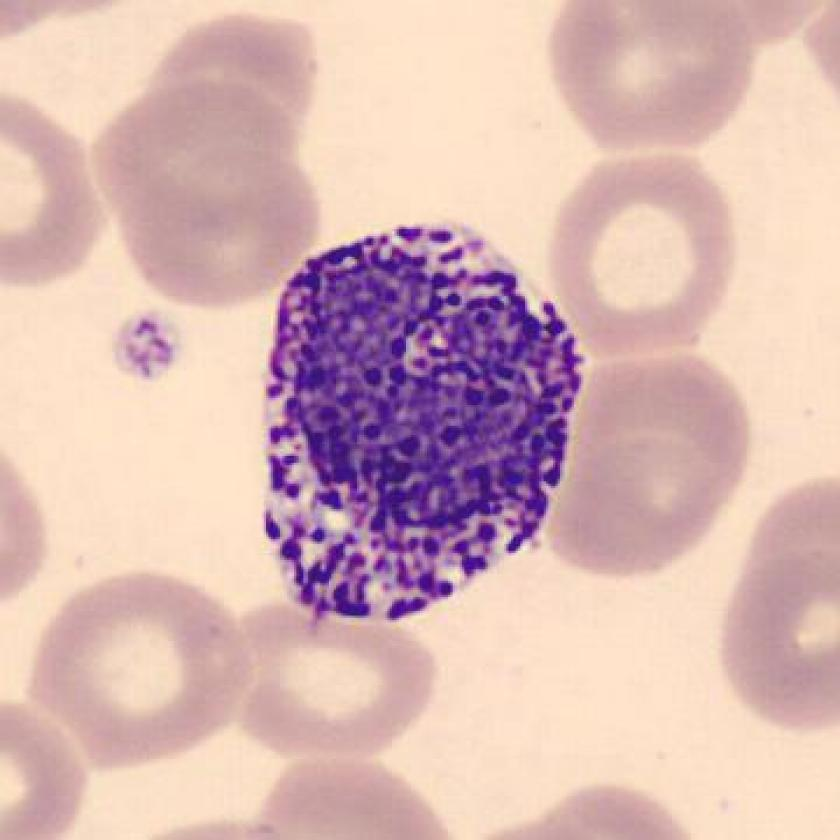basophil: (267, 223, 577, 612)
